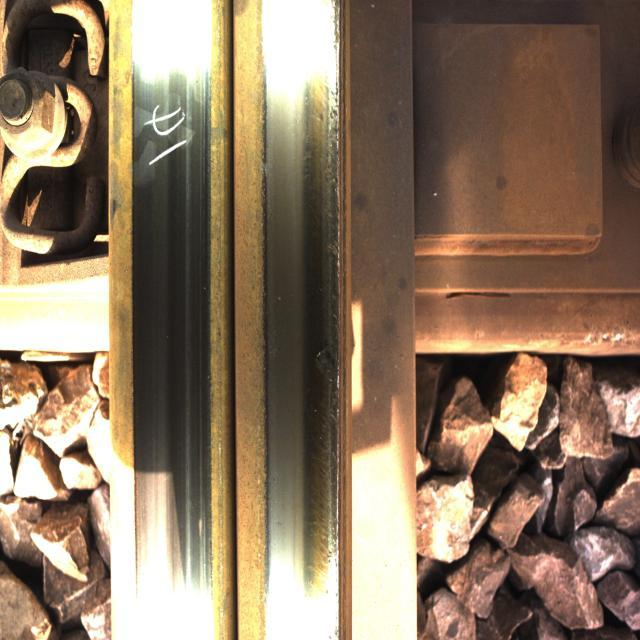normal: (122, 15, 206, 639)
scar: (290, 61, 341, 614)
